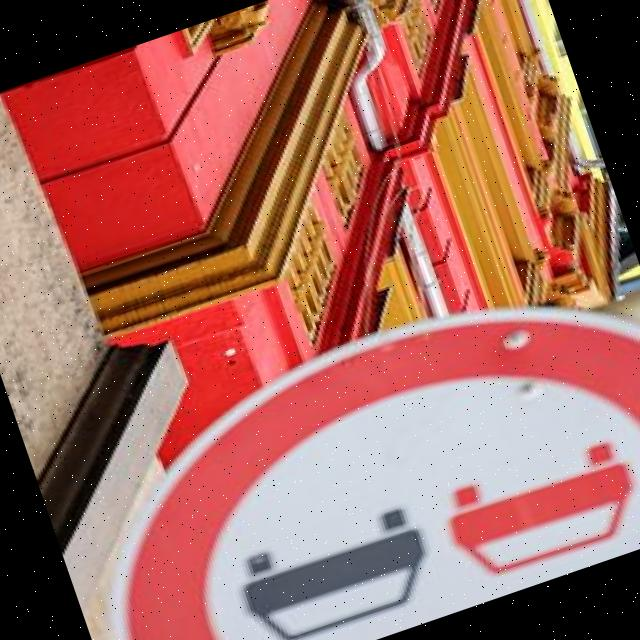no_passing: (44, 237, 640, 640)
